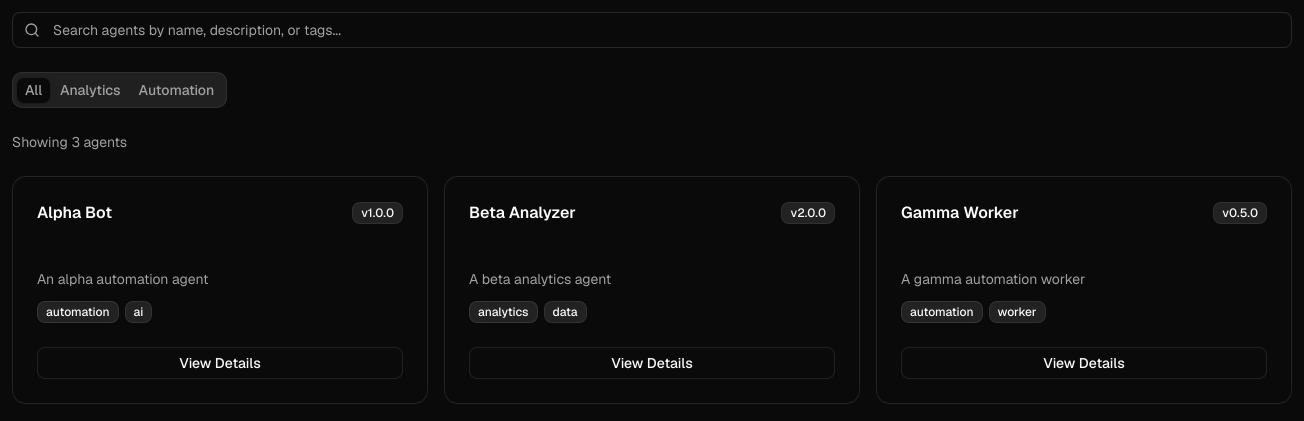
Test: RegistryContent › filters agents by category tab
Click the tab "automation". click: (176, 90)
box: 130,76 -> 223,104
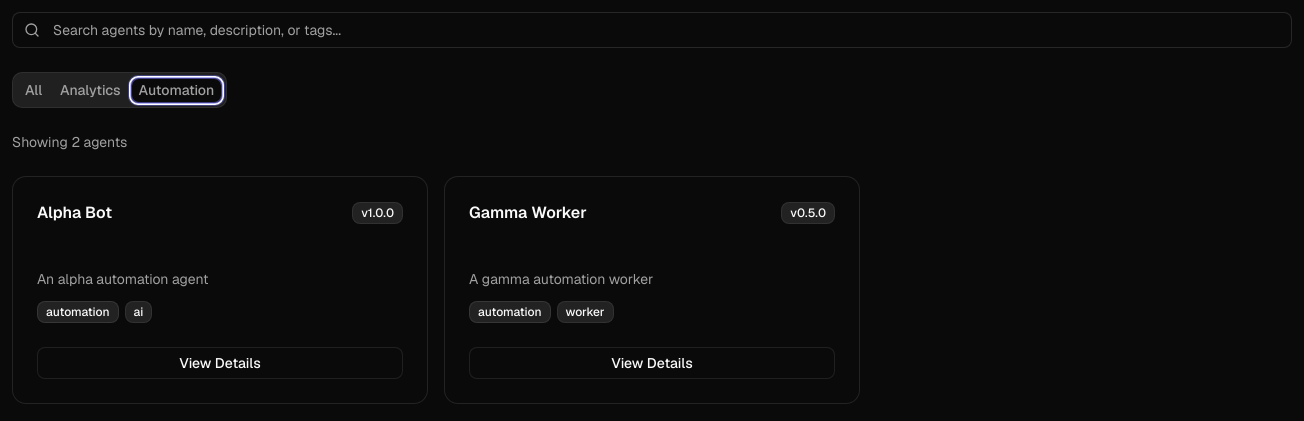
Expected: the text "Alpha Bot" is shown, 37,201 -> 112,225
Now the text "Beta Analyzer" is gone
